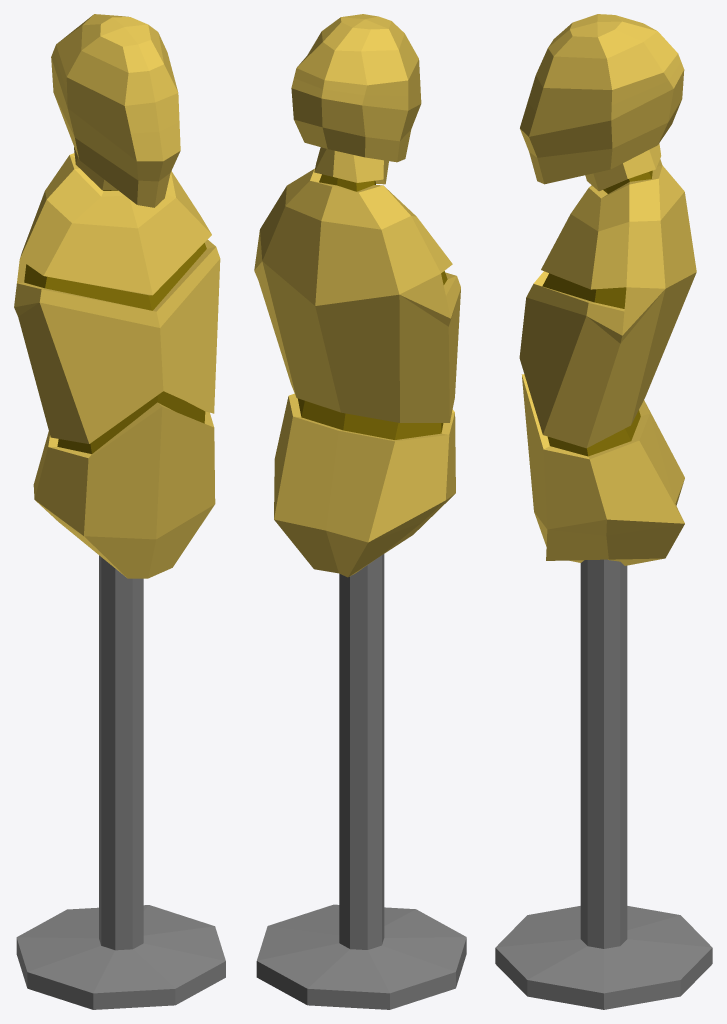
File: Dummy.fbx
3 renders of one model, left to right at view 1: azimuth 30°, elevation 25°; view 2: azimuth 150°, elevation 25°; view 3: azimuth 270°, elevation 25°, orthographic.
Visible parts, largest first — view 1: Cube; view 2: Cube; view 3: Cube.
Part boxes in pixels (x1=…): Cube: x1=14, y1=14, x2=225, y2=1009; Cube: x1=254, y1=14, x2=466, y2=1009; Cube: x1=495, y1=14, x2=712, y2=1009.
Size of the model in its own units: 84.62 by 388 by 81.03.
